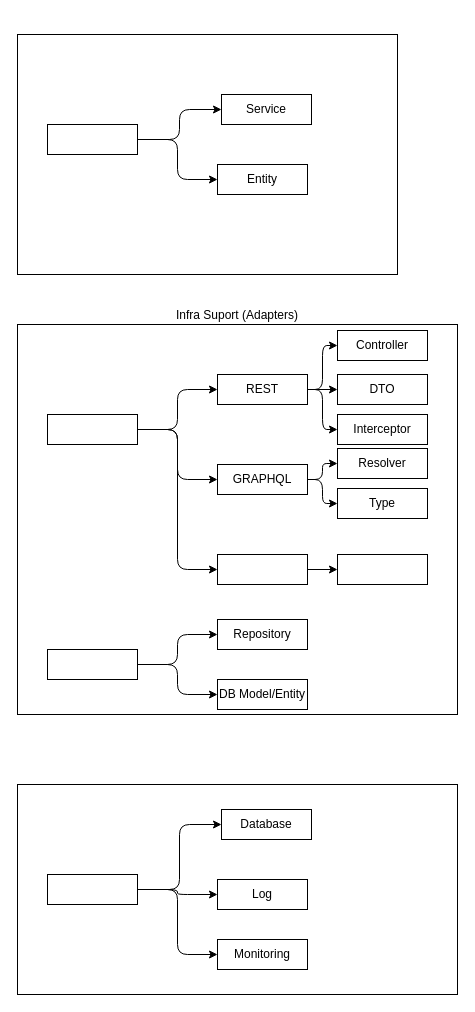
Some shapes in this 475 by 1012 pixel diagram are drawn without their labels. The shapes that lost their labels are listed below. From the top down, each one's box as (x1, y1, x2, y2) in pixels, then its label:
(46, 124, 138, 154): Core
(16, 34, 398, 274): Business Logic (Core)
(46, 414, 138, 444): HTTP
(216, 554, 308, 584): CLIENT
(336, 554, 428, 584): External API
(46, 648, 138, 680): Persistence
(46, 874, 138, 904): Infra
(16, 784, 458, 994): Business Logic
